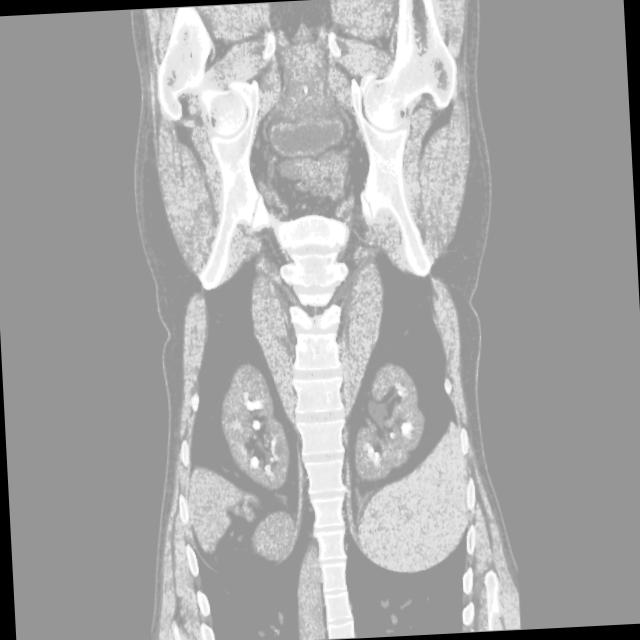STONE: (157, 345, 466, 508)
